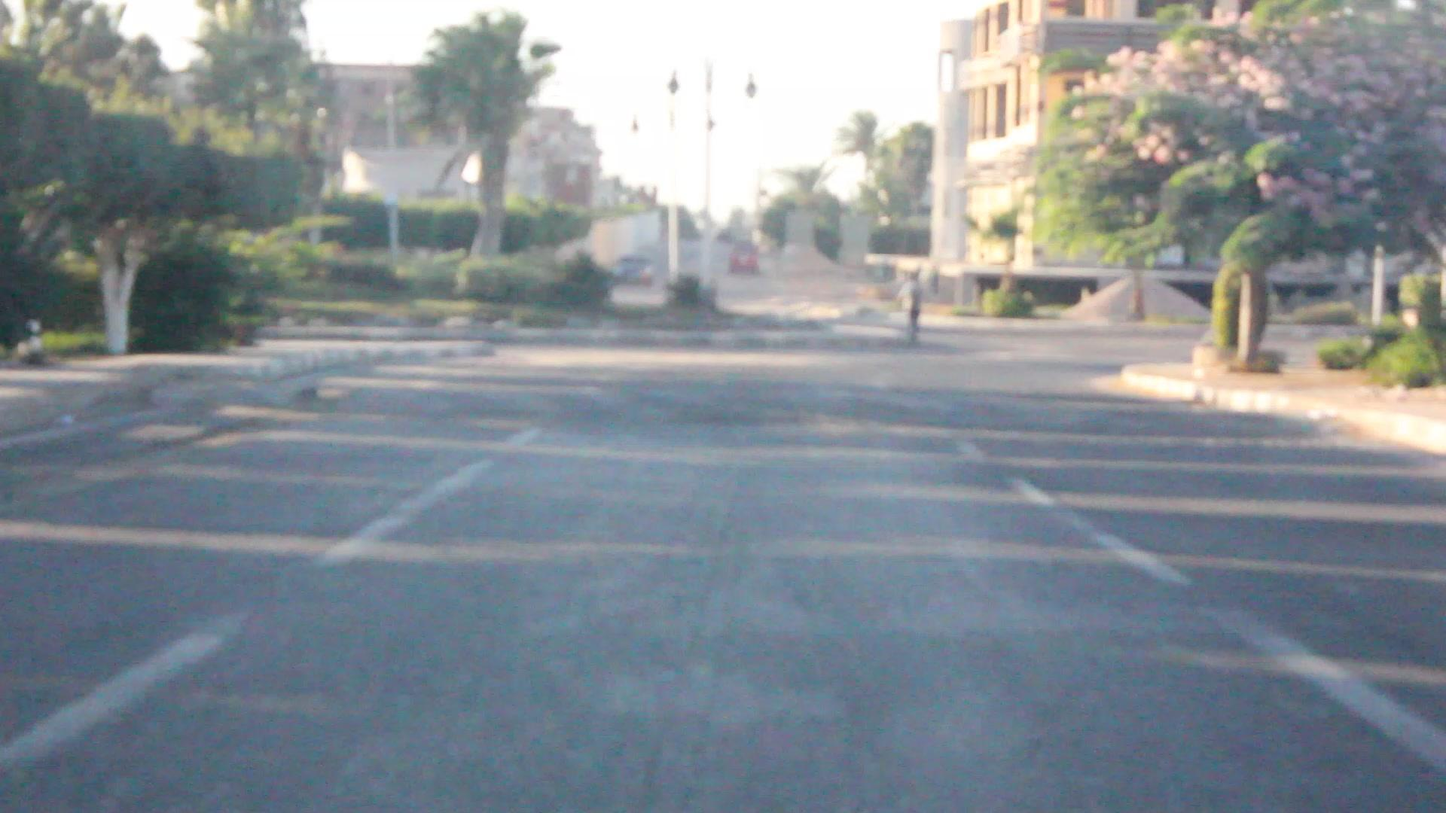Bump: (297, 373, 1307, 461)
